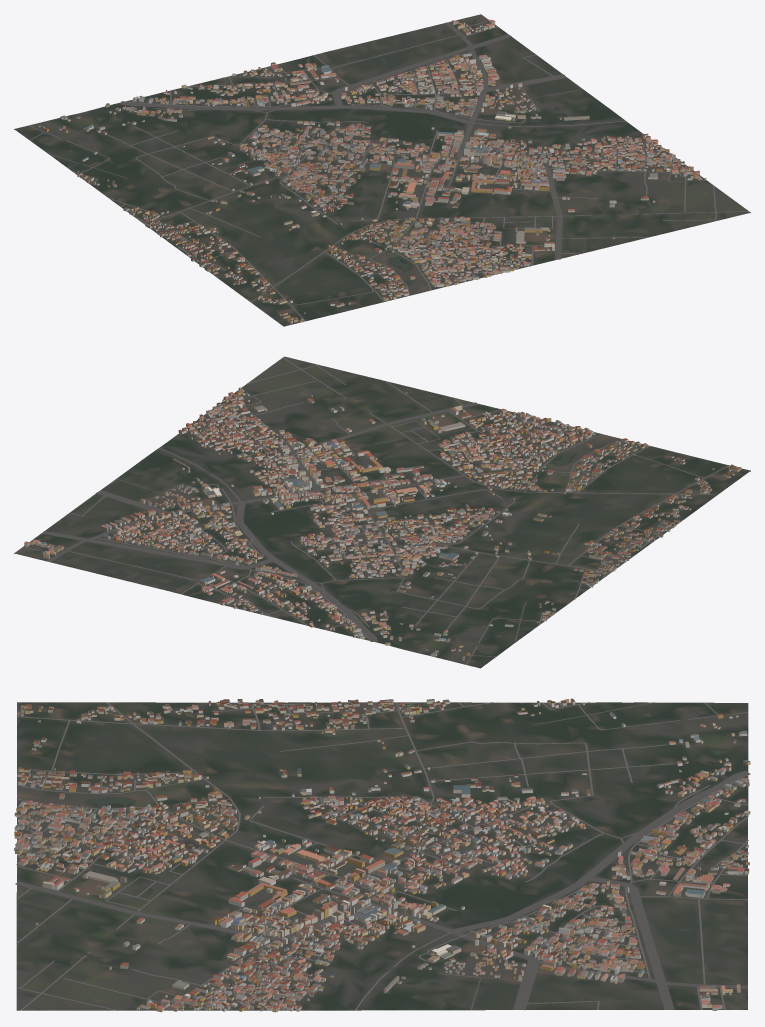
3 views of the same model, one above another, from view 1: azimuth 30°, elevation 25°; view 2: azimuth 150°, elevation 25°; view 3: azimuth 270°, elevation 25° (orthographic). The views are drawn at different scales.
Parts seen in each view (by area): view 1: ground, buildings, roads; view 2: ground, buildings, roads; view 3: ground, buildings, roads.
Boxes of the visible parts, left/top/right/bottom form: ground: left=14, top=14, right=750, bottom=326; buildings: left=38, top=19, right=706, bottom=323; roads: left=28, top=21, right=749, bottom=321; ground: left=14, top=356, right=750, bottom=668; buildings: left=24, top=387, right=741, bottom=660; roads: left=22, top=357, right=727, bottom=664; ground: left=16, top=702, right=748, bottom=1010; buildings: left=14, top=698, right=750, bottom=1012; roads: left=15, top=702, right=750, bottom=1010.
Size of the model in its own units: 1413 by 23.65 by 1413.
